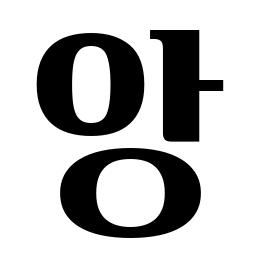Gaji: (156, 62, 214, 109)
